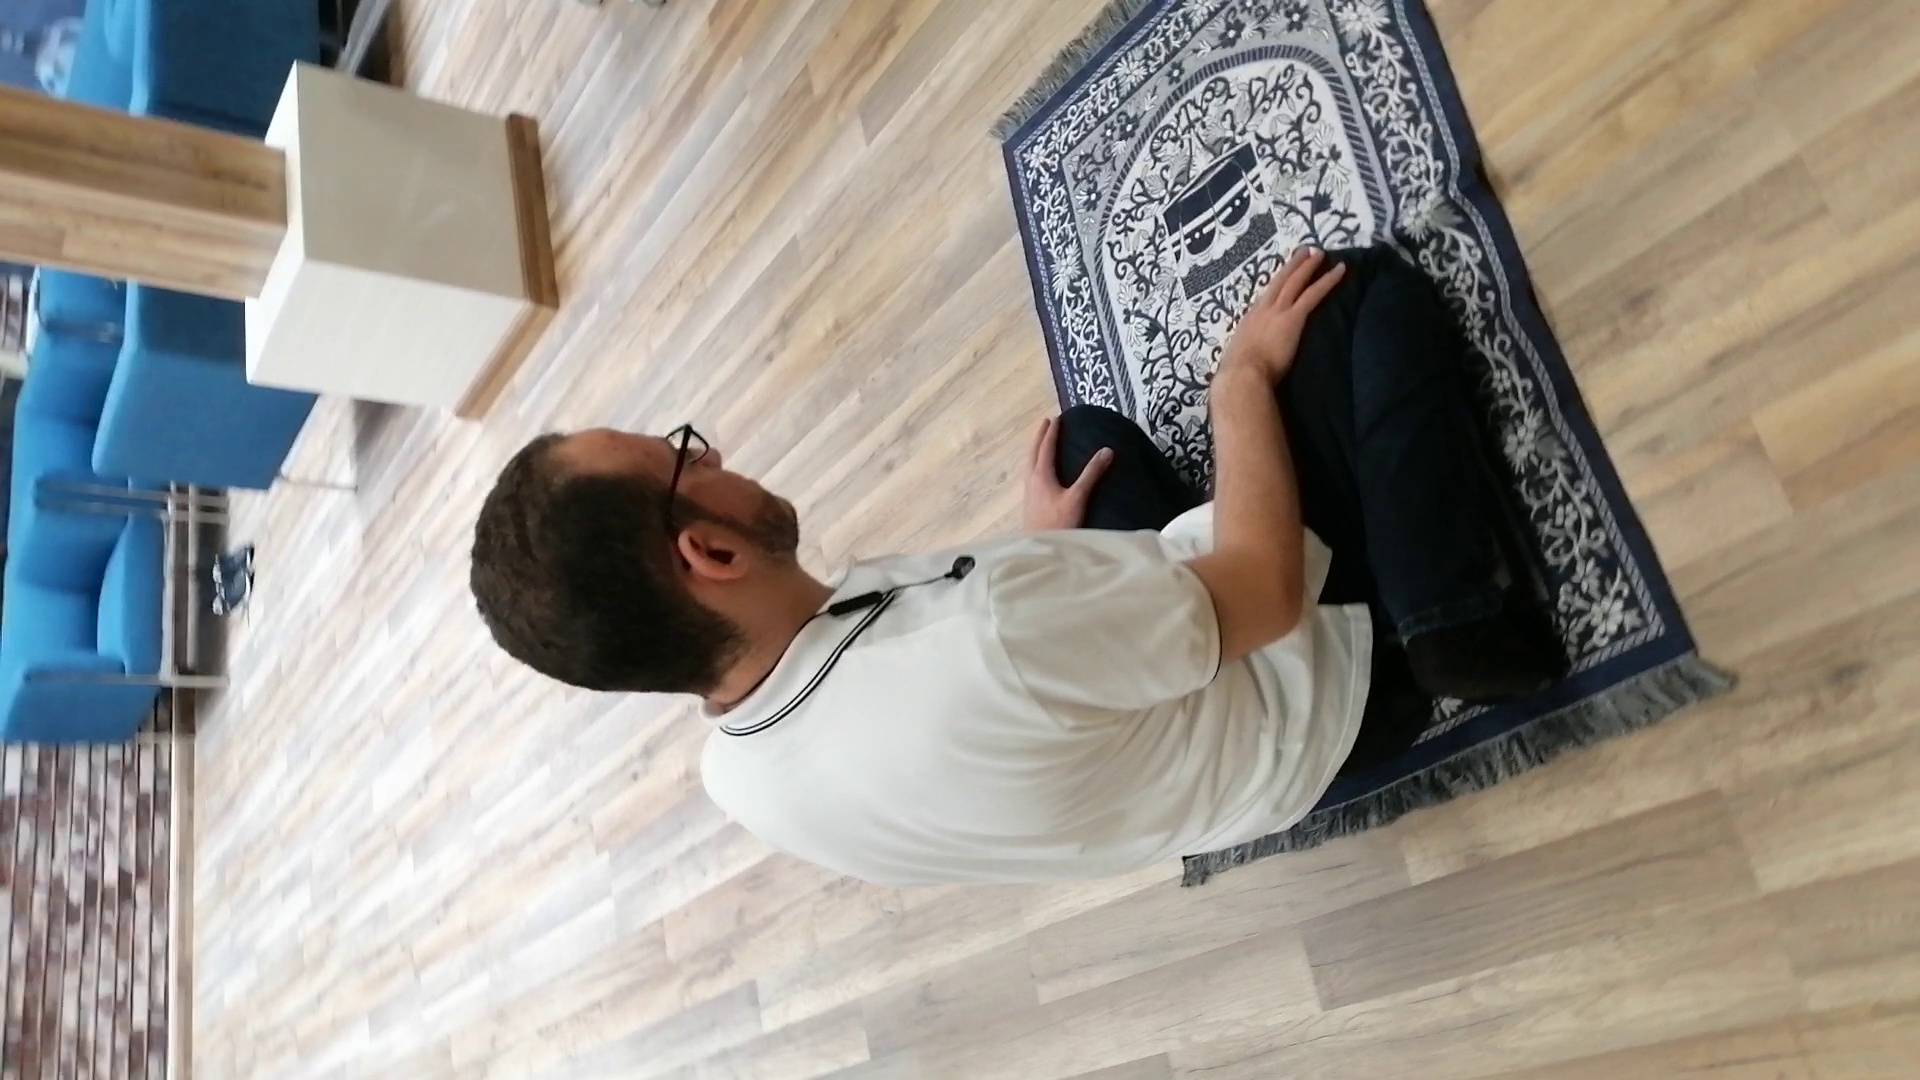sitting: (447, 229, 1575, 905)
